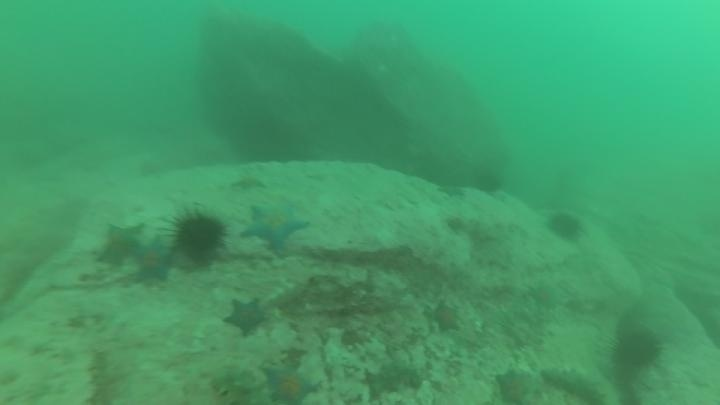echinus: (166, 205, 229, 266), (611, 325, 665, 373), (545, 209, 586, 245), (470, 166, 506, 198)
holothurian: (539, 363, 614, 405), (200, 362, 271, 404), (82, 348, 121, 405)
starfish: (239, 199, 311, 255), (92, 221, 147, 270), (260, 361, 320, 405), (128, 236, 177, 286), (221, 295, 271, 339), (492, 366, 540, 405), (427, 299, 464, 335), (526, 280, 562, 311), (229, 172, 269, 193), (436, 181, 467, 200)
